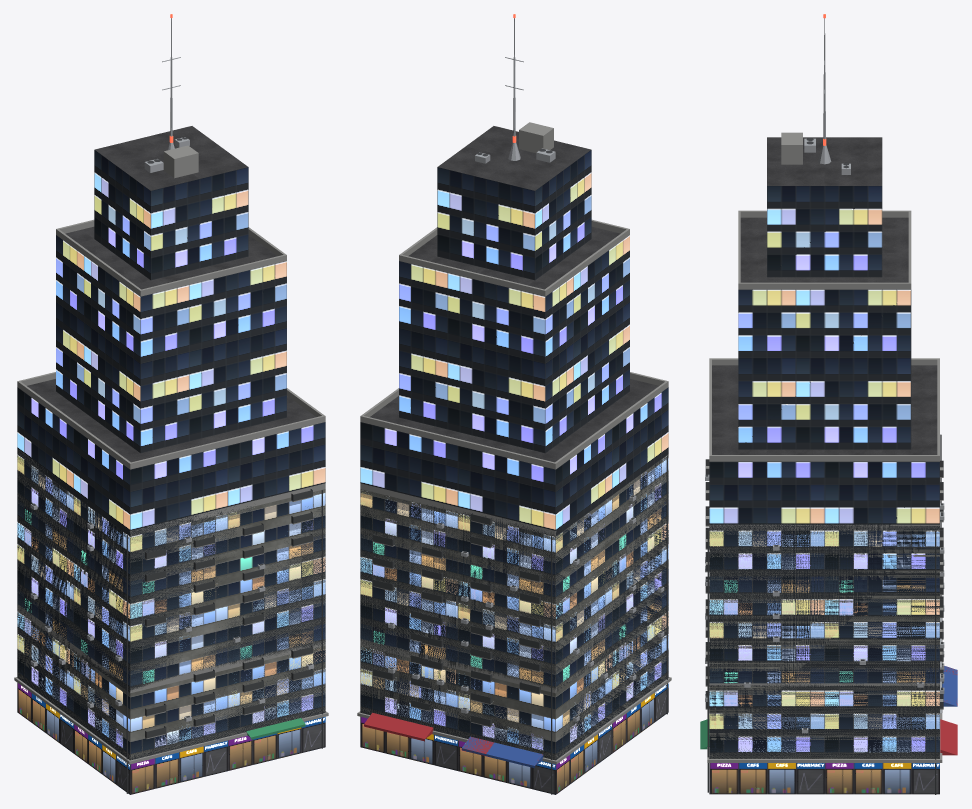
The model's file is city.glb.
The picture shows the model from 3 angles, left to right: view 1: azimuth 30°, elevation 25°; view 2: azimuth 150°, elevation 25°; view 3: azimuth 270°, elevation 25°; orthographic projection. The views are drawn at different scales.
Parts seen in each view (by area): view 1: bld_glass, bld_concrete, bld_lowrise, bld_resi, bld_brick; view 2: bld_glass, bld_concrete, bld_lowrise, bld_resi, bld_brick; view 3: bld_glass, bld_concrete, bld_resi, bld_lowrise.
Part boxes in pixels (bbox=[...]): bld_glass: bbox=[14, 14, 328, 794]; bld_concrete: bbox=[17, 449, 325, 793]; bld_lowrise: bbox=[17, 604, 325, 793]; bld_resi: bbox=[145, 489, 312, 739]; bld_brick: bbox=[246, 718, 305, 739]; bld_glass: bbox=[357, 14, 671, 794]; bld_concrete: bbox=[360, 454, 668, 794]; bld_lowrise: bbox=[360, 612, 668, 793]; bld_resi: bbox=[373, 512, 540, 727]; bld_brick: bbox=[411, 610, 430, 711]; bld_glass: bbox=[707, 14, 957, 794]; bld_concrete: bbox=[705, 434, 957, 794]; bld_resi: bbox=[705, 459, 943, 709]; bld_lowrise: bbox=[705, 595, 957, 791].
Size of what is drawn, in the model's own units: 33.2 by 112 by 35.7.
39 materials, 7 textured.
